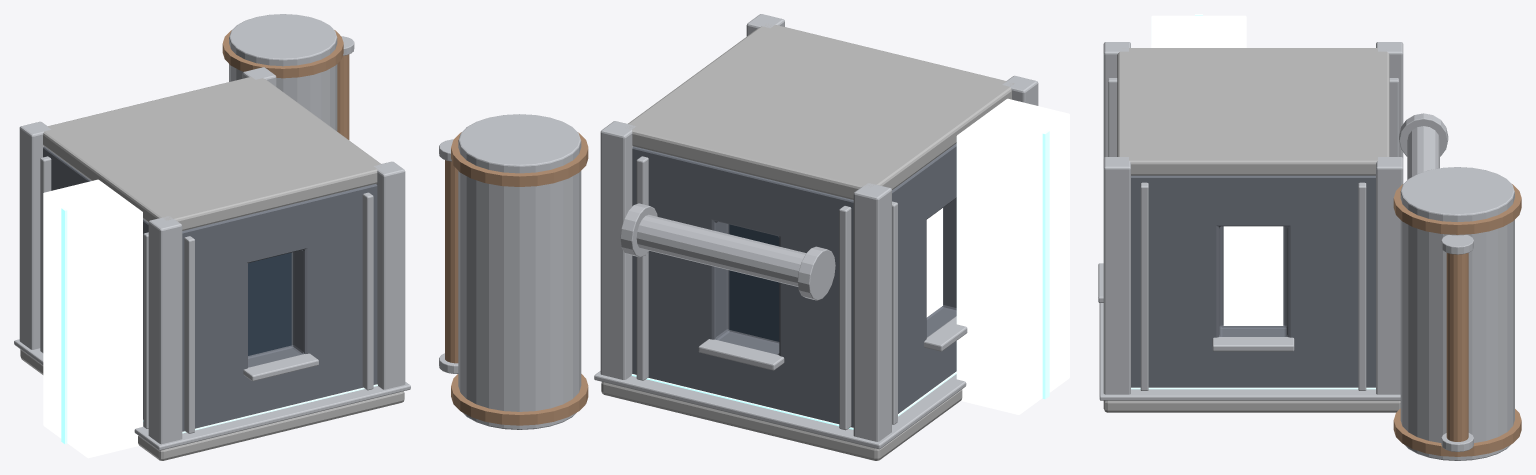
File: svc_2x2.glb
3 views of the same model, side by side, from view 1: azimuth 30°, elevation 25°; view 2: azimuth 150°, elevation 25°; view 3: azimuth 270°, elevation 25° (orthographic). The views are drawn at different scales.
Visible parts, largest first — view 1: ext_wall, int_ceiling, ext_lift, int_columns, ext_frames, ext_svc_tower, ext_panes_dark, int_slab, int_slab_edge, ext_lift_glow, ext_svc_ring2, ext_svc_pipe (+1 smaller); view 2: ext_wall, int_ceiling, ext_svc_tower, ext_lift, int_columns, ext_frames, ext_duct, int_slab_edge, int_slab, ext_panes_dark, ext_svc_pipe, ext_svc_ring2 (+6 smaller); view 3: ext_wall, int_ceiling, ext_svc_tower, int_columns, ext_frames, ext_panes_lit, ext_svc_pipe, int_slab, int_slab_edge, ext_lift, ext_svc_ring2, ext_svc_ring (+4 smaller).
Boxes of the visible parts, <box> form: ext_wall: <box>43,146,377,431</box>; int_ceiling: <box>43,77,380,230</box>; ext_lift: <box>43,179,142,458</box>; int_columns: <box>19,67,405,444</box>; ext_frames: <box>40,156,373,433</box>; ext_svc_tower: <box>229,14,337,131</box>; ext_panes_dark: <box>248,252,291,355</box>; int_slab: <box>20,349,404,460</box>; int_slab_edge: <box>14,339,410,450</box>; ext_lift_glow: <box>61,207,67,444</box>; ext_svc_ring2: <box>222,30,343,78</box>; ext_svc_pipe: <box>337,54,349,139</box>; ext_wall: <box>632,143,956,427</box>; int_ceiling: <box>625,24,1014,199</box>; ext_svc_tower: <box>458,114,581,429</box>; ext_lift: <box>956,98,1069,414</box>; int_columns: <box>600,14,1038,441</box>; ext_frames: <box>636,156,967,430</box>; ext_duct: <box>636,214,806,286</box>; int_slab_edge: <box>594,371,966,449</box>; int_slab: <box>601,382,962,460</box>; ext_panes_dark: <box>729,224,779,341</box>; ext_svc_pipe: <box>445,160,458,363</box>; ext_svc_ring2: <box>451,132,588,186</box>; ext_wall: <box>1131,175,1375,387</box>; int_ceiling: <box>1117,48,1389,175</box>; ext_svc_tower: <box>1400,167,1514,460</box>; int_columns: <box>1103,42,1403,394</box>; ext_frames: <box>1098,78,1398,390</box>; ext_panes_lit: <box>1223,226,1283,325</box>; ext_svc_pipe: <box>1446,253,1468,441</box>; int_slab: <box>1103,400,1400,412</box>; int_slab_edge: <box>1099,303,1400,400</box>; ext_lift: <box>1151,15,1246,47</box>; ext_svc_ring2: <box>1393,184,1521,234</box>; ext_svc_ring: <box>1393,408,1521,456</box>.
Bounding box in the file's own units: 3.69 × 2 × 3.11.
